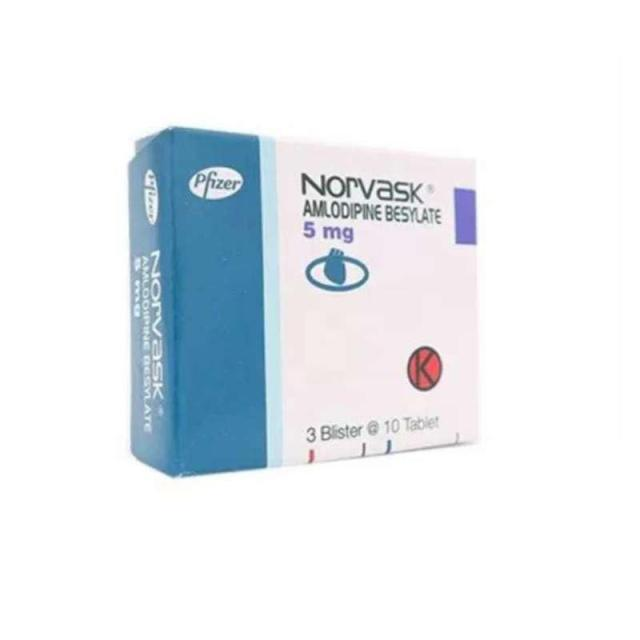drug-name: (299, 168, 429, 205)
